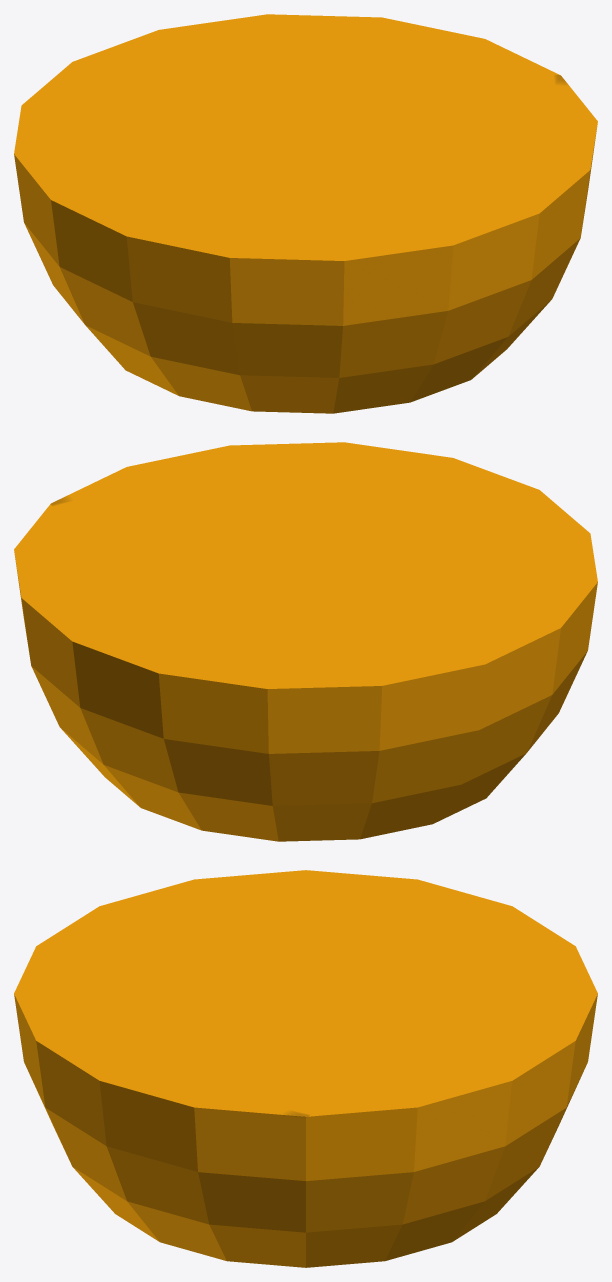
Rendered from oar_bottom_bun.glb.
The picture shows the model from 3 angles, top to bottom: view 1: azimuth 30°, elevation 25°; view 2: azimuth 150°, elevation 25°; view 3: azimuth 270°, elevation 25°; orthographic projection.
Visible parts, largest first — view 1: Sphere; view 2: Sphere; view 3: Sphere.
Boxes of the visible parts, <box> form: Sphere: <box>14,14,597,413</box>; Sphere: <box>14,442,597,841</box>; Sphere: <box>14,870,597,1267</box>.
Size of the model in its own units: 2 by 0.7071 by 2.
1 material, 1 textured.
